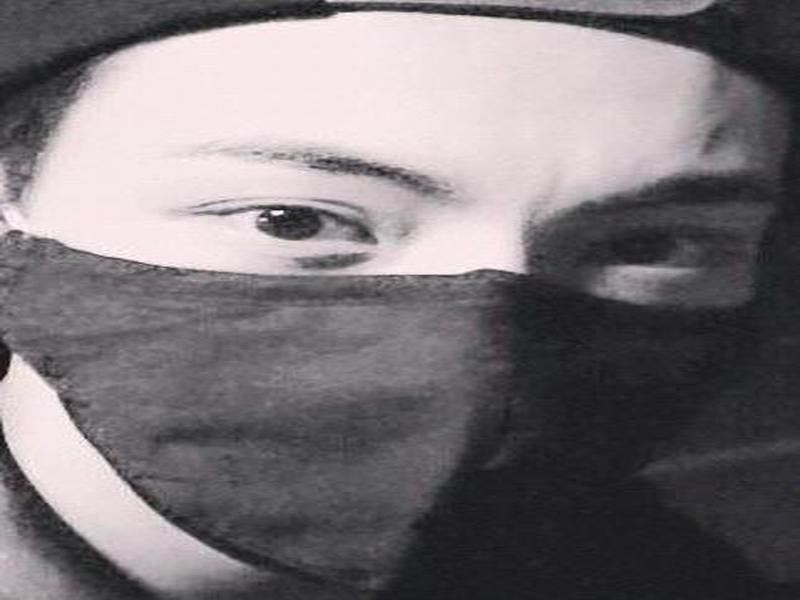with_mask: (1, 20, 784, 598)
